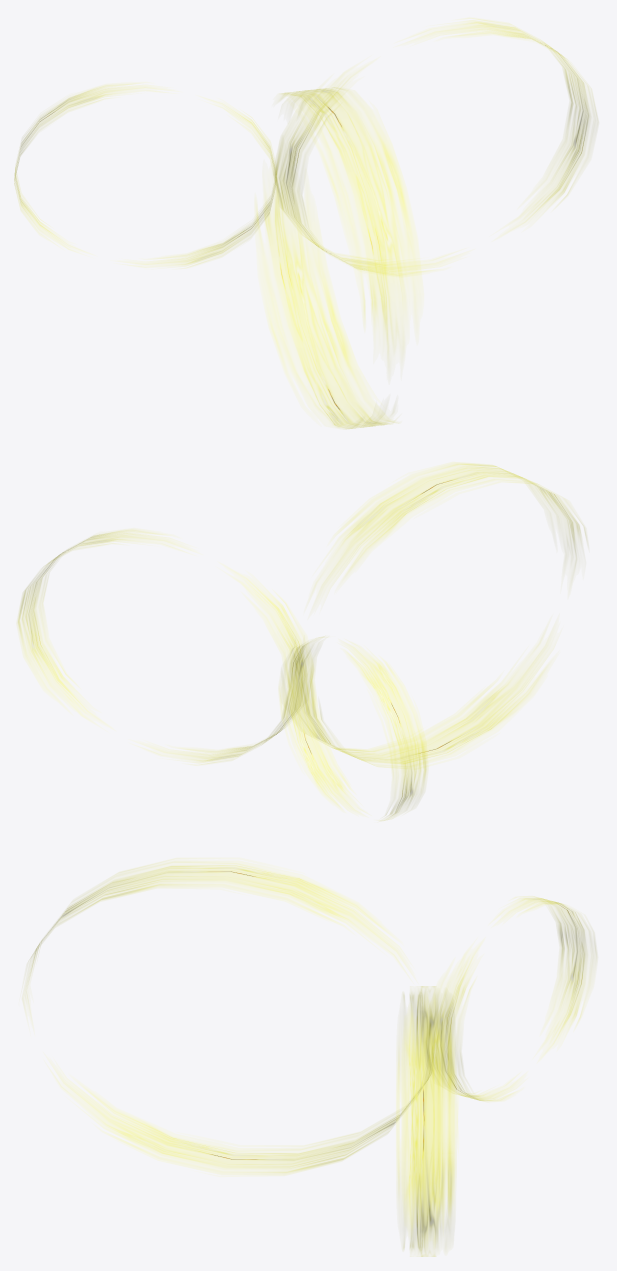
The model's file is sunflare01.glb.
3 renders of one model, top to bottom at view 1: azimuth 30°, elevation 25°; view 2: azimuth 150°, elevation 25°; view 3: azimuth 270°, elevation 25°, orthographic. The views are drawn at different scales.
Parts seen in each view (by area): view 1: Sunflare01; view 2: Sunflare01; view 3: Sunflare01.
Part boxes in pixels (bbox=[...]): Sunflare01: bbox=[14, 20, 589, 428]; Sunflare01: bbox=[18, 463, 585, 820]; Sunflare01: bbox=[30, 865, 595, 1256].
Size of the model in its own units: 75.31 by 41.17 by 76.45.
1 material, 1 textured.
